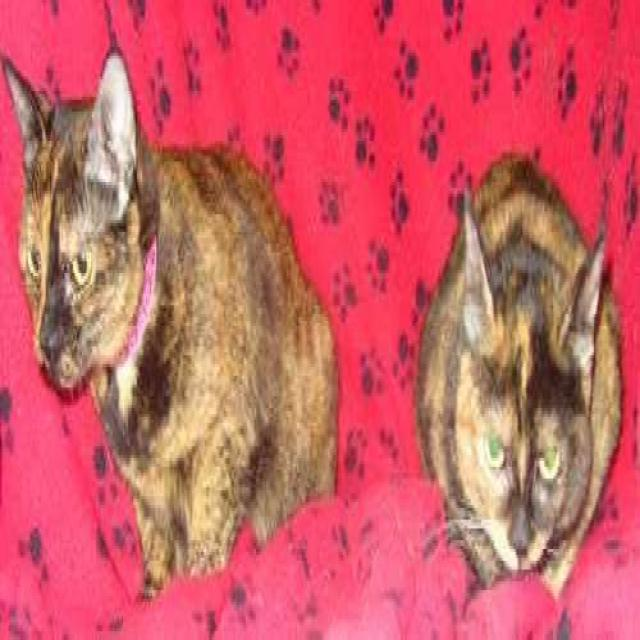cat: (0, 44, 338, 596), (414, 150, 624, 602)
